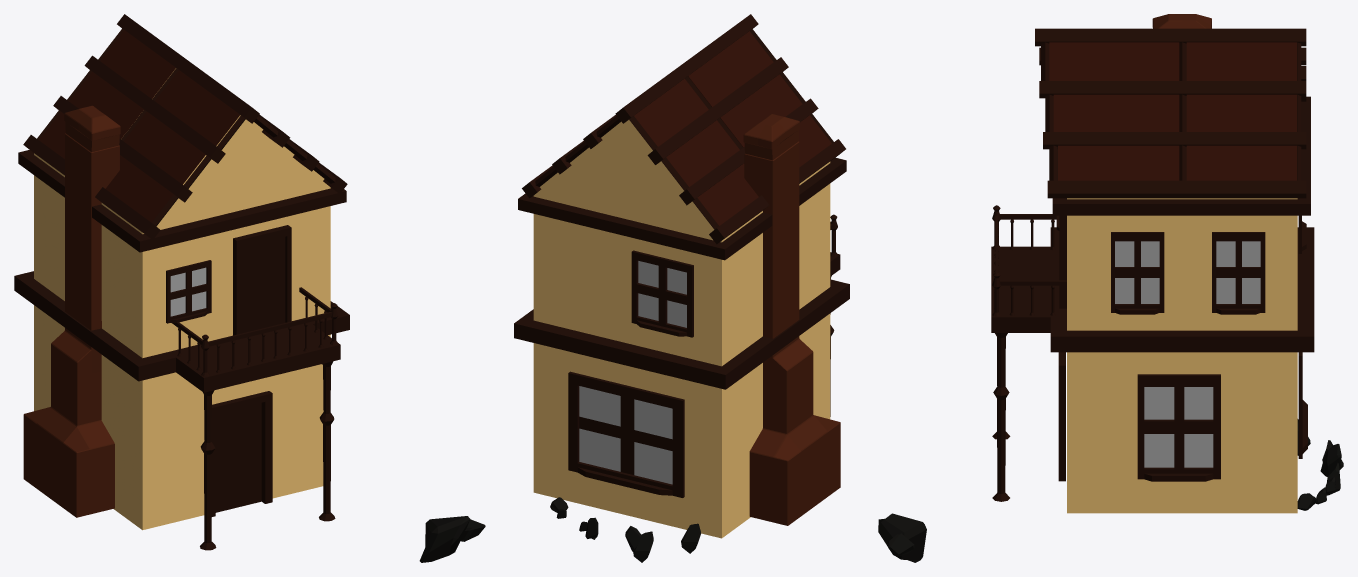
The model's file is Trabalho2CG.obj.
3 views of the same model, side by side, from view 1: azimuth 30°, elevation 25°; view 2: azimuth 150°, elevation 25°; view 3: azimuth 270°, elevation 25° (orthographic). The views are drawn at different scales.
Parts seen in each view (by area): view 1: Casa_Casa_Cube, PartesMadeiraCasa_Partes_Madeira_Casa_Cube.004, Lareira_Lareira_Cube.002, Telhas_Telhas_Plane, Telhado_Telhado_Cube.001, Pedras_Pedras_Cube.003, Janelas_Janelas_Grid.001, VidrosJanela_Vidros_Janela_Grid.000; view 2: Casa_Casa_Cube, Lareira_Lareira_Cube.002, PartesMadeiraCasa_Partes_Madeira_Casa_Cube.004, Telhas_Telhas_Plane, Telhado_Telhado_Cube.001, Janelas_Janelas_Grid.001, VidrosJanela_Vidros_Janela_Grid.000, Pedras_Pedras_Cube.003; view 3: Casa_Casa_Cube, Telhas_Telhas_Plane, PartesMadeiraCasa_Partes_Madeira_Casa_Cube.004, Telhado_Telhado_Cube.001, Janelas_Janelas_Grid.001, VidrosJanela_Vidros_Janela_Grid.000, Pedras_Pedras_Cube.003, Lareira_Lareira_Cube.002.
Part boxes in pixels (x1,y1,x2,y2): Casa_Casa_Cube: (34,68,330,530); PartesMadeiraCasa_Partes_Madeira_Casa_Cube.004: (14,150,349,550); Lareira_Lareira_Cube.002: (23,105,120,517); Telhas_Telhas_Plane: (39,30,239,222); Telhado_Telhado_Cube.001: (23,14,347,239); Pedras_Pedras_Cube.003: (419,516,485,562); Janelas_Janelas_Grid.001: (166,260,211,323); VidrosJanela_Vidros_Janela_Grid.000: (170,267,206,316); Casa_Casa_Cube: (533,120,830,538); Lareira_Lareira_Cube.002: (743,114,840,525); PartesMadeiraCasa_Partes_Madeira_Casa_Cube.004: (514,157,849,416); Telhas_Telhas_Plane: (634,31,831,225); Telhado_Telhado_Cube.001: (522,14,845,244); Janelas_Janelas_Grid.001: (568,250,693,497); VidrosJanela_Vidros_Janela_Grid.000: (579,261,686,484); Pedras_Pedras_Cube.003: (550,497,700,562); Casa_Casa_Cube: (1067,198,1297,513); Telhas_Telhas_Plane: (1049,42,1296,180); PartesMadeiraCasa_Partes_Madeira_Casa_Cube.004: (991,96,1314,501); Telhado_Telhado_Cube.001: (1035,28,1306,198); Janelas_Janelas_Grid.001: (1056,215,1307,481); VidrosJanela_Vidros_Janela_Grid.000: (1115,241,1260,467); Pedras_Pedras_Cube.003: (878,419,1343,562); Lareira_Lareira_Cube.002: (1152,14,1211,28).
Size of what is drawn, in the model's own units: 3.17 by 4.5 by 4.04.
